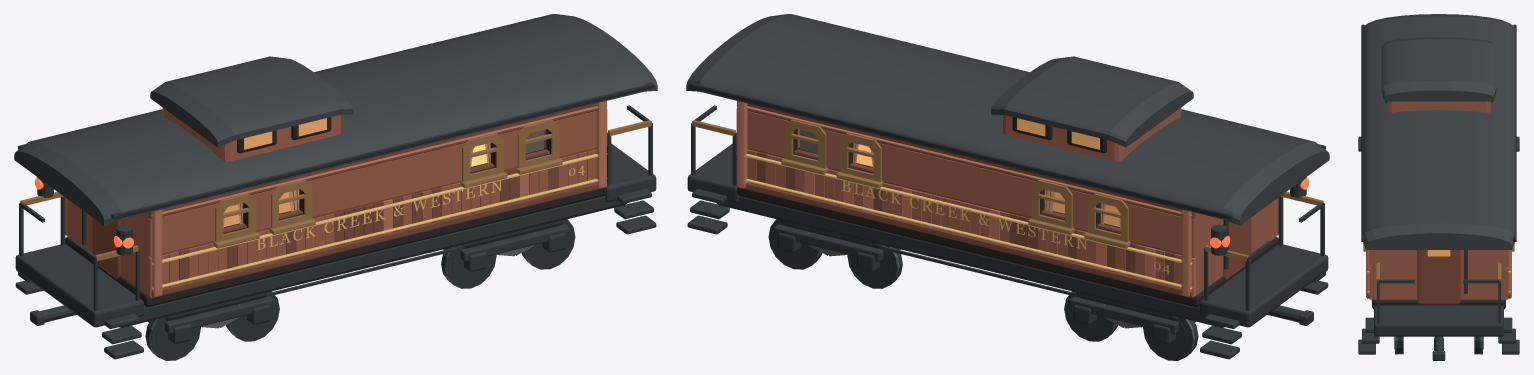
Rendered from guard_observation_car.glb.
The picture shows the model from 3 angles, left to right: view 1: azimuth 30°, elevation 25°; view 2: azimuth 150°, elevation 25°; view 3: azimuth 270°, elevation 25°; orthographic projection. The views are drawn at different scales.
Visible parts, largest first — view 1: No. 04 — Conductor; view 2: No. 04 — Conductor; view 3: No. 04 — Conductor.
Part boxes in pixels (<box>): No. 04 — Conductor: <box>14,14,657,360</box>; No. 04 — Conductor: <box>686,14,1329,360</box>; No. 04 — Conductor: <box>1358,14,1519,360</box>.
Size of the model in its own units: 10.28 by 3.7 by 2.92.
